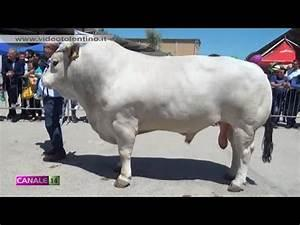cow: (40, 38, 274, 191)
